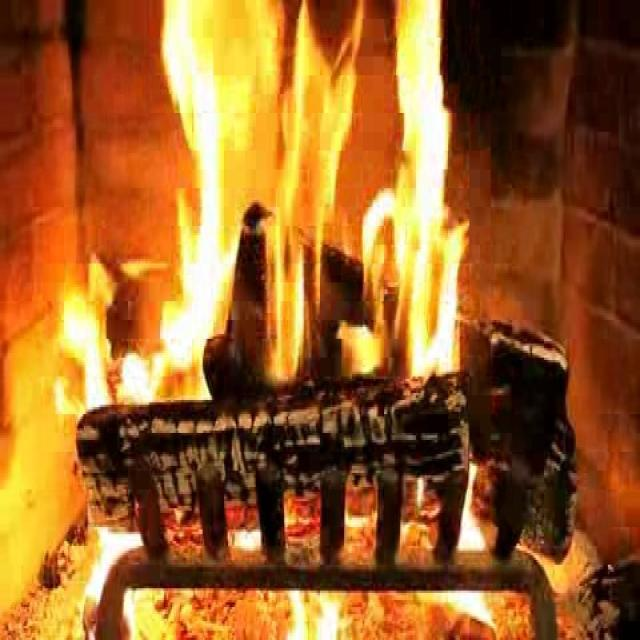Fire: (140, 2, 486, 414)
